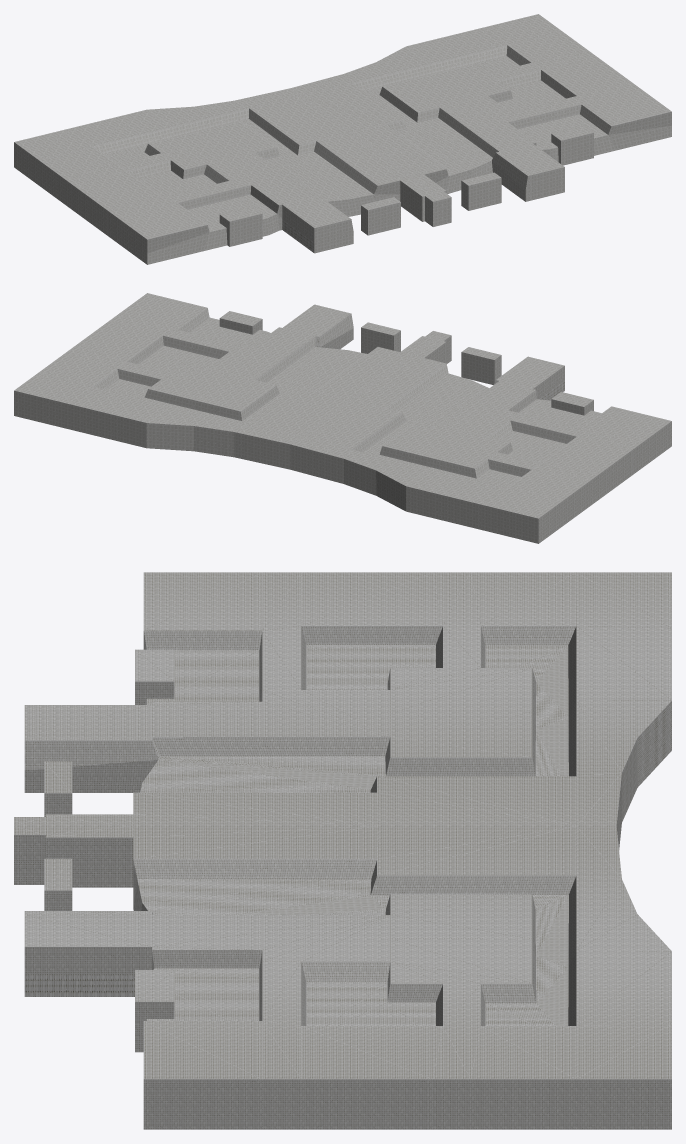
The model's file is Piso.fbx.
3 views of the same model, one above another, from view 1: azimuth 30°, elevation 25°; view 2: azimuth 150°, elevation 25°; view 3: azimuth 270°, elevation 25° (orthographic). The views are drawn at different scales.
Visible parts, largest first — view 1: Piso; view 2: Piso; view 3: Piso.
Part boxes in pixels (<box>): Piso: <box>14,14,671,264</box>; Piso: <box>14,293,671,543</box>; Piso: <box>14,572,671,1129</box>.
Size of the model in its own units: 16943 by 781 by 9290.
